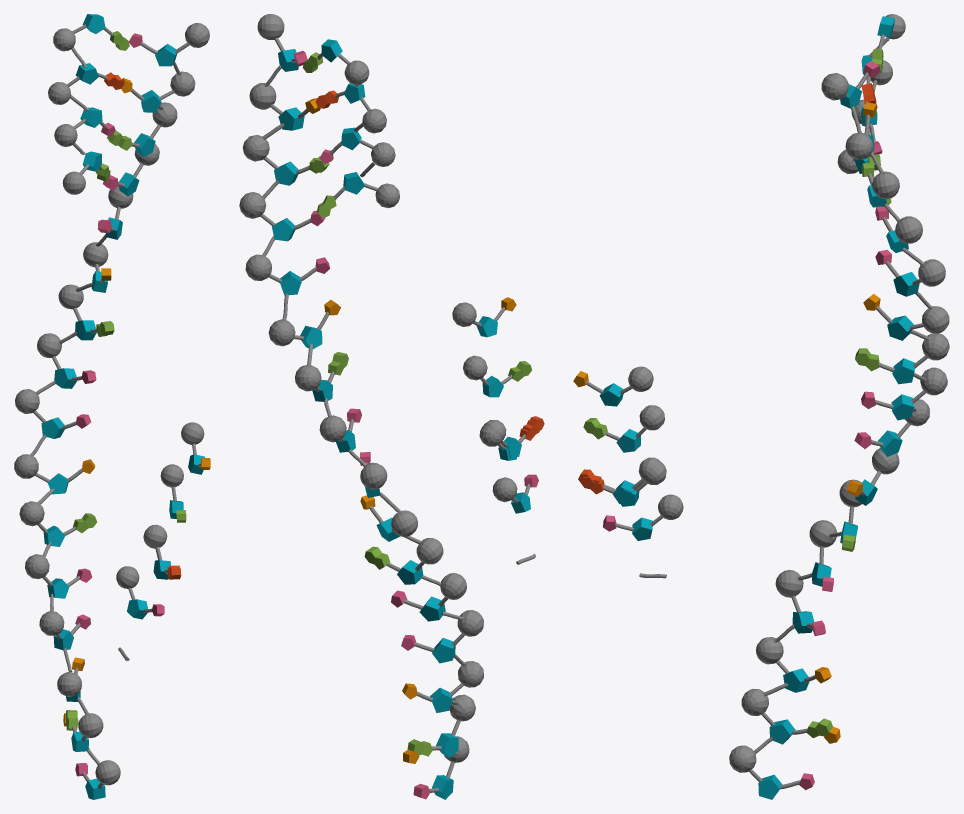
The model's file is DNA Molecule.glb.
3 views of the same model, side by side, from view 1: azimuth 30°, elevation 25°; view 2: azimuth 150°, elevation 25°; view 3: azimuth 270°, elevation 25° (orthographic). The views are drawn at different scales.
Parts seen in each view (by area): view 1: node_MeshObject-1266478016-PolyPaper22, node_MeshObject-1033443776-PolyPaper22, node_MeshObject-1972669120-PolyPaper22, node_MeshObject-74950976-PolyPaper22; view 2: node_MeshObject-1266478016-PolyPaper22, node_MeshObject-1972669120-PolyPaper22, node_MeshObject-1033443776-PolyPaper22, node_MeshObject-74950976-PolyPaper22; view 3: node_MeshObject-1266478016-PolyPaper22, node_MeshObject-1033443776-PolyPaper22, node_MeshObject-1972669120-PolyPaper22, node_MeshObject-74950976-PolyPaper22.
Part boxes in pixels (x1=…): node_MeshObject-1266478016-PolyPaper22: x1=25, y1=23, x2=209, y2=788; node_MeshObject-1033443776-PolyPaper22: x1=14, y1=234, x2=210, y2=799; node_MeshObject-1972669120-PolyPaper22: x1=15, y1=33, x2=195, y2=751; node_MeshObject-74950976-PolyPaper22: x1=48, y1=14, x2=176, y2=660; node_MeshObject-1266478016-PolyPaper22: x1=239, y1=14, x2=483, y2=799; node_MeshObject-1972669120-PolyPaper22: x1=249, y1=37, x2=483, y2=757; node_MeshObject-1033443776-PolyPaper22: x1=282, y1=293, x2=544, y2=799; node_MeshObject-74950976-PolyPaper22: x1=302, y1=39, x2=535, y2=564; node_MeshObject-1266478016-PolyPaper22: x1=749, y1=72, x2=949, y2=790; node_MeshObject-1033443776-PolyPaper22: x1=573, y1=292, x2=932, y2=799; node_MeshObject-1972669120-PolyPaper22: x1=741, y1=61, x2=929, y2=744; node_MeshObject-74950976-PolyPaper22: x1=605, y1=14, x2=905, y2=578.
Bounding box in the file's own units: 0.0501 × 0.1866 × 0.0788.
